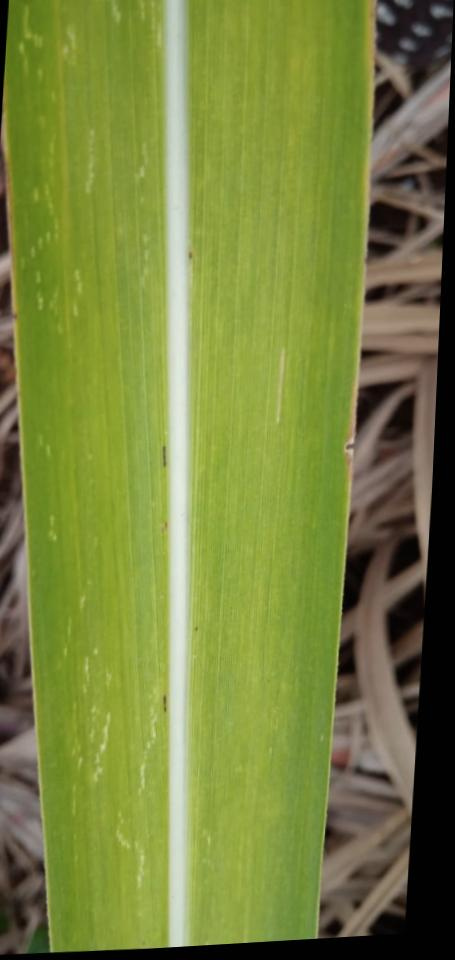Rust: (159, 518, 168, 536), (162, 446, 167, 470), (162, 693, 167, 713), (186, 249, 193, 261), (192, 624, 199, 631)
